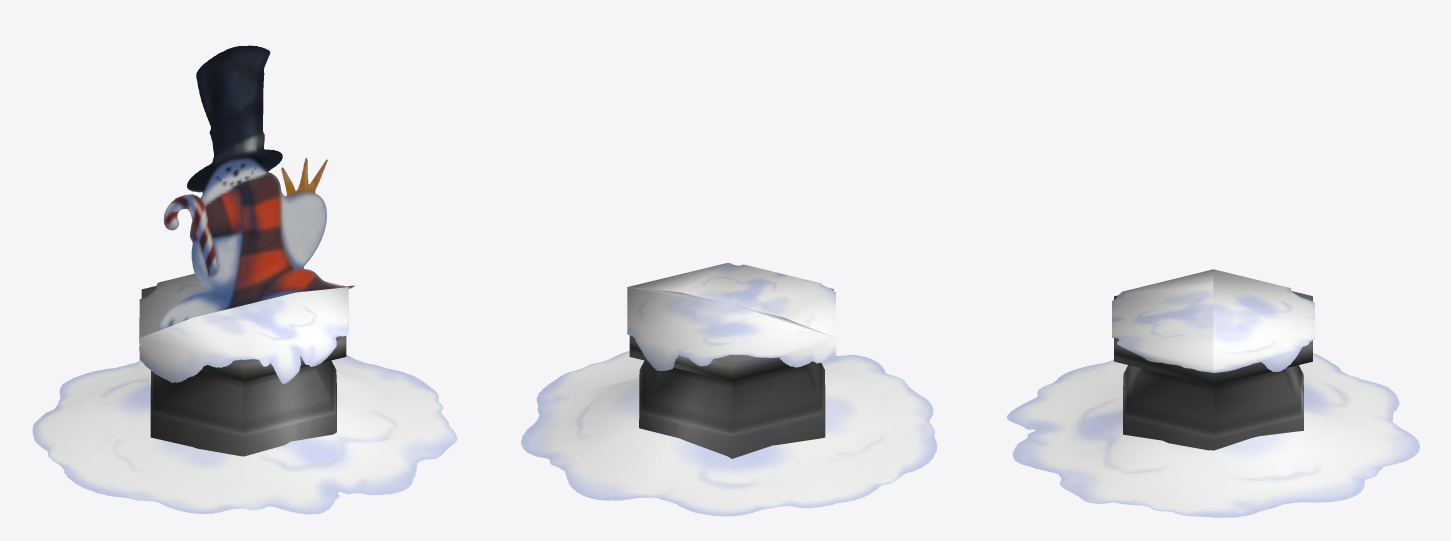
File: snow_doodle.glb
3 views of the same model, side by side, from view 1: azimuth 30°, elevation 25°; view 2: azimuth 150°, elevation 25°; view 3: azimuth 270°, elevation 25° (orthographic). The views are drawn at different scales.
Visible parts, largest first — view 1: snowpile, snowDoodle__billboard, base, snowTop; view 2: snowpile, snowTop, base; view 3: snowpile, snowTop, base.
Part boxes in pixels (x1,y1,x2,y2): snowpile: [32, 354, 457, 514]; snowDoodle__billboard: [157, 45, 354, 330]; base: [141, 286, 346, 456]; snowTop: [139, 273, 348, 383]; snowpile: [521, 351, 937, 516]; snowTop: [627, 263, 836, 370]; base: [629, 264, 833, 458]; snowpile: [1006, 353, 1419, 517]; snowTop: [1112, 269, 1314, 372]; base: [1114, 291, 1312, 450].
Size of the model in its own units: 6.6 by 6.14 by 6.6.
3 materials, 3 textured.
